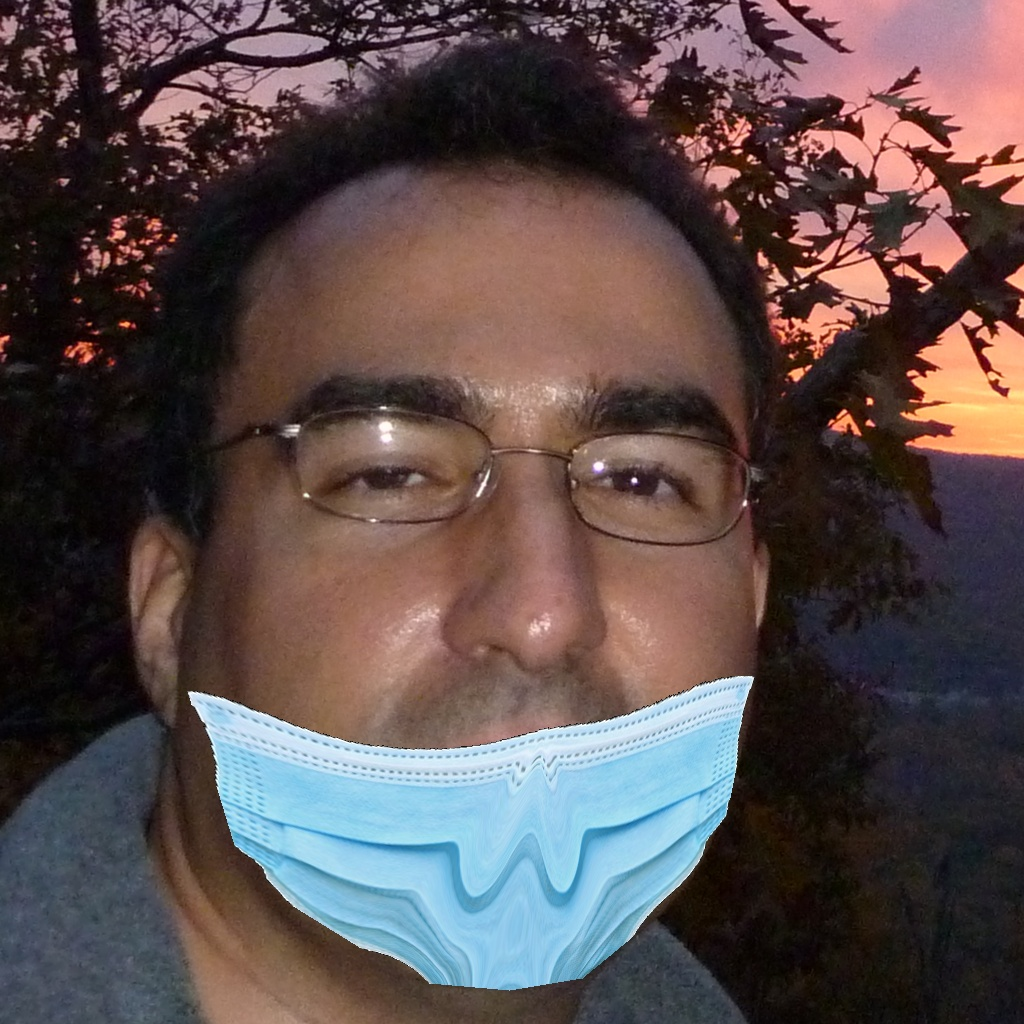mascarilla_mal_puesta: (179, 343, 794, 1005)
